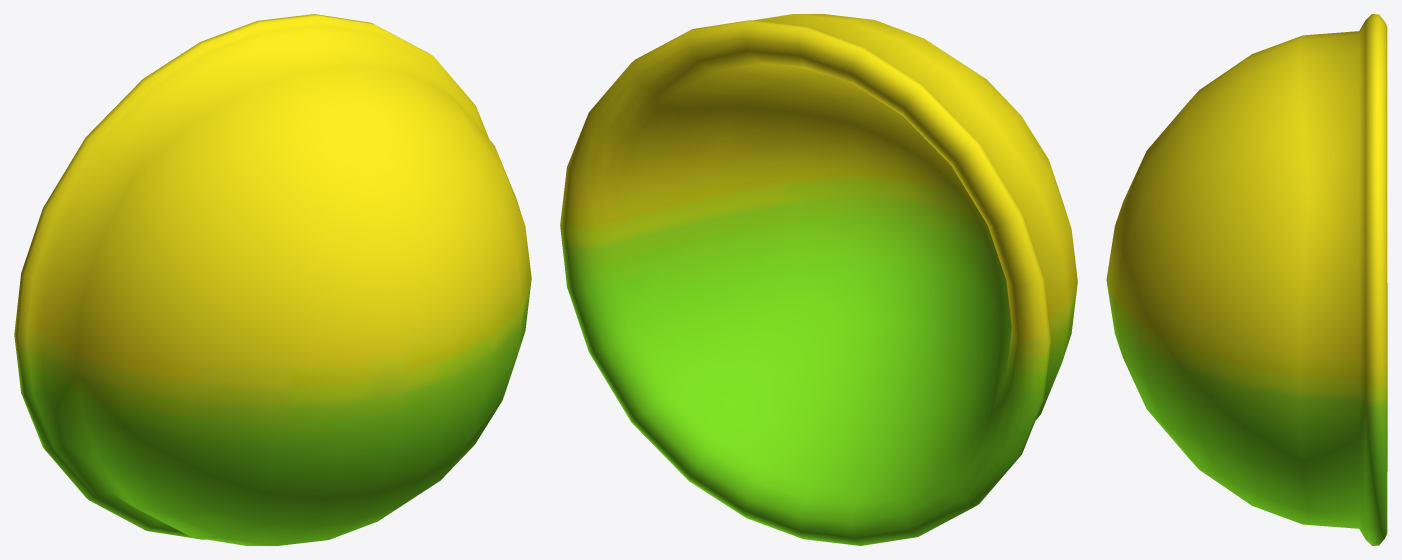
Rendered from AmongUs_Cut_03_Pupka_003_0.FBX.
3 views of the same model, side by side, from view 1: azimuth 30°, elevation 25°; view 2: azimuth 150°, elevation 25°; view 3: azimuth 270°, elevation 25° (orthographic). The views are drawn at different scales.
Visible parts, largest first — view 1: AmongUs_Cut_03_Pupka_003_0; view 2: AmongUs_Cut_03_Pupka_003_0; view 3: AmongUs_Cut_03_Pupka_003_0.
Boxes of the visible parts, bbox=[...] form: AmongUs_Cut_03_Pupka_003_0: bbox=[14, 14, 531, 545]; AmongUs_Cut_03_Pupka_003_0: bbox=[560, 14, 1077, 545]; AmongUs_Cut_03_Pupka_003_0: bbox=[1106, 14, 1387, 545].
Bounding box in the file's own units: 0.7857 × 0.4145 × 0.7857.
